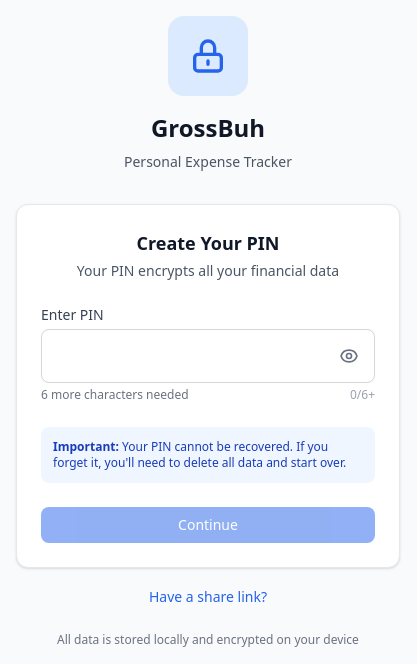
Test: PinSetupPage › goes back to create step when back clicked
Type "123456" into the password field labelled "Enter PIN" at (208, 356), box [41,329,375,383]
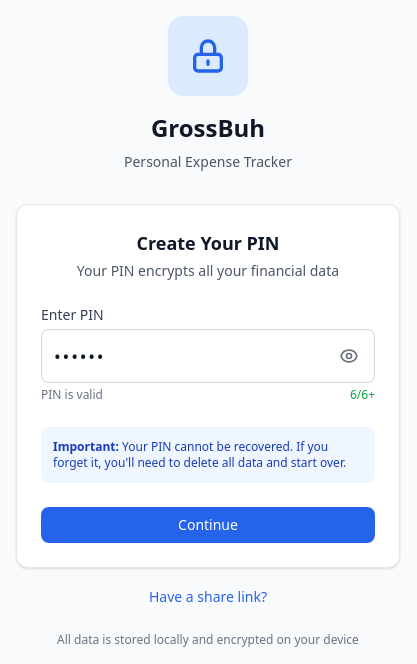
Click the button "Continue" at (208, 525), box [41,507,375,543]
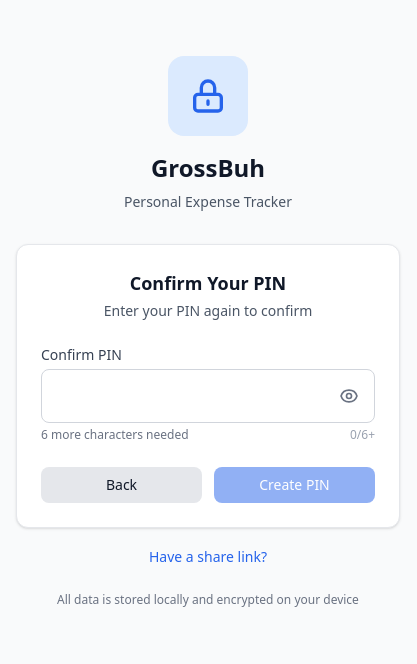
Click the button "Back" at (122, 485), box [41,467,202,503]
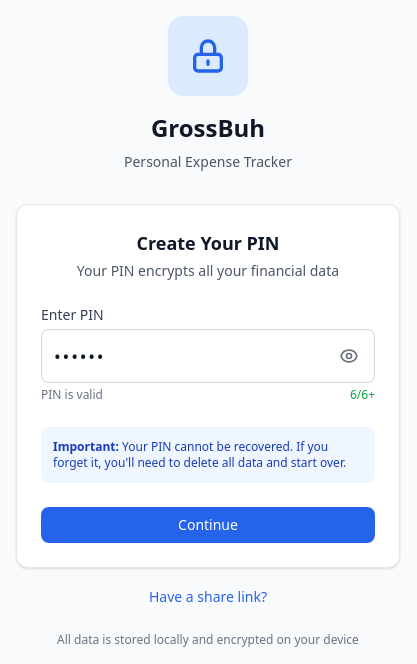
Expected: the heading "Create Your PIN" is shown, [136,231,280,255]
